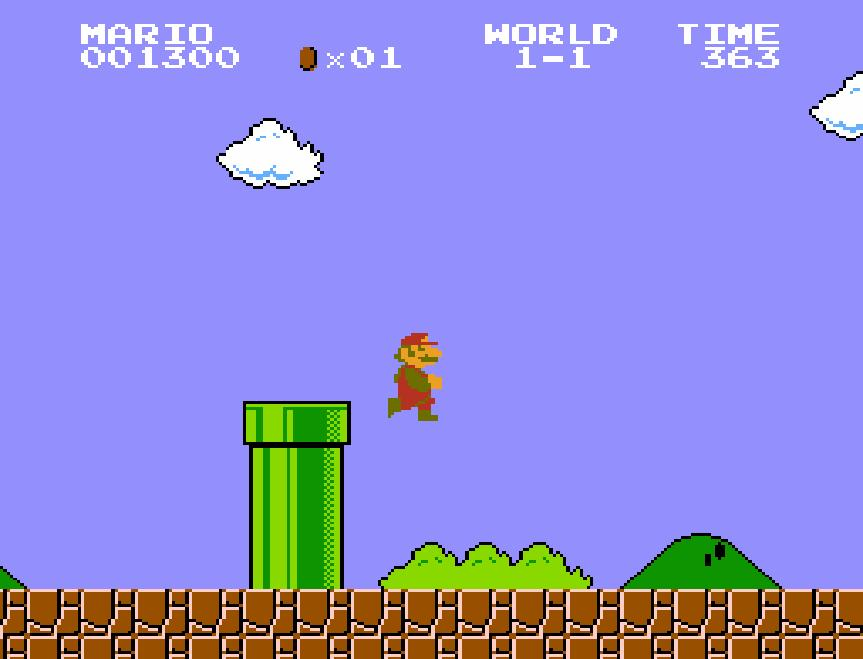big_mario: (386, 325, 444, 423)
